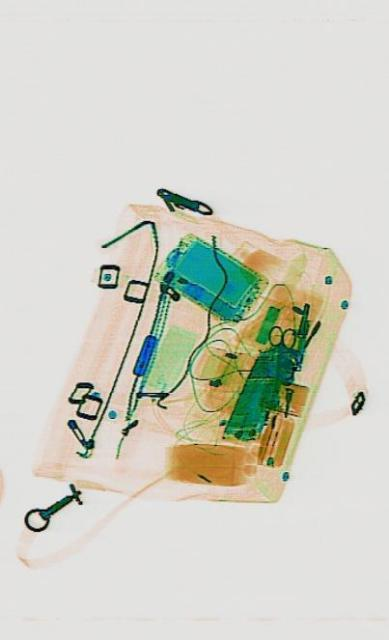Scissors: (260, 322, 294, 394)
